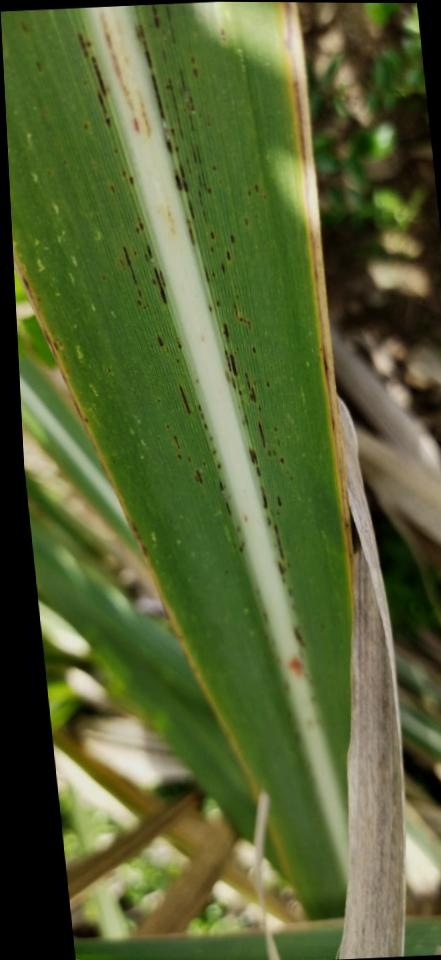RedRot: (285, 654, 303, 683), (131, 115, 140, 134)
Rust: (130, 4, 296, 612), (72, 29, 113, 131), (120, 244, 149, 311), (141, 241, 170, 306), (196, 403, 222, 470), (125, 516, 150, 560), (41, 325, 62, 365), (232, 299, 252, 336), (216, 477, 233, 518), (177, 381, 192, 415), (291, 624, 308, 650), (121, 169, 136, 189), (131, 214, 144, 236), (21, 276, 33, 299), (154, 329, 165, 348), (192, 467, 203, 486), (172, 433, 181, 450), (238, 539, 246, 555)
Yellow: (13, 243, 257, 801), (275, 2, 354, 624)
